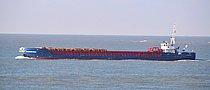Ship: (14, 36, 199, 63)
